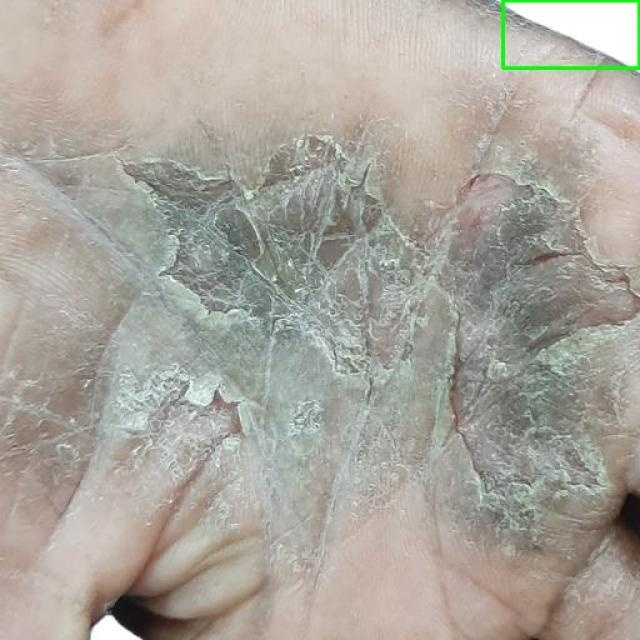Contact Dermatitis: (502, 0, 639, 69)
